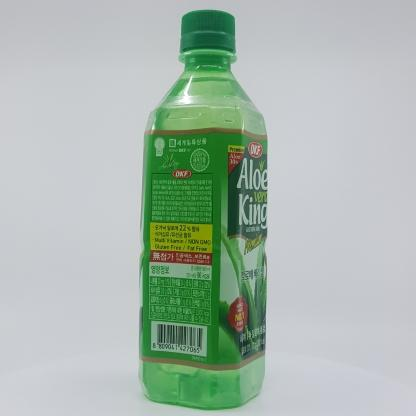------------500ml: (138, 9, 267, 410)
